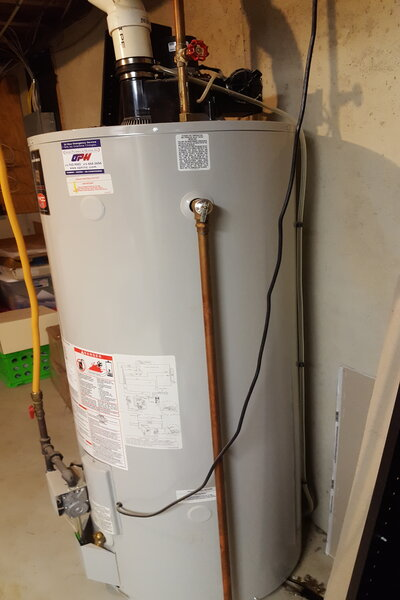valve: (192, 197, 214, 240)
